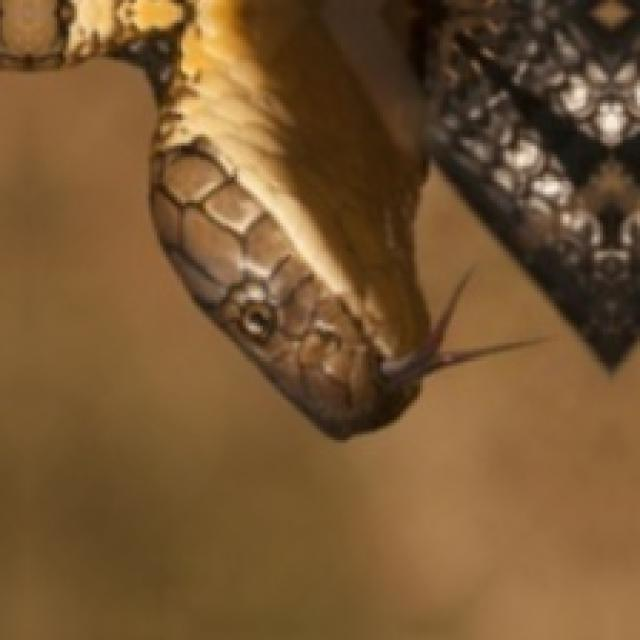king cobra: (0, 0, 637, 434), (0, 0, 480, 434)
